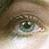eye: (21, 21, 34, 32)
